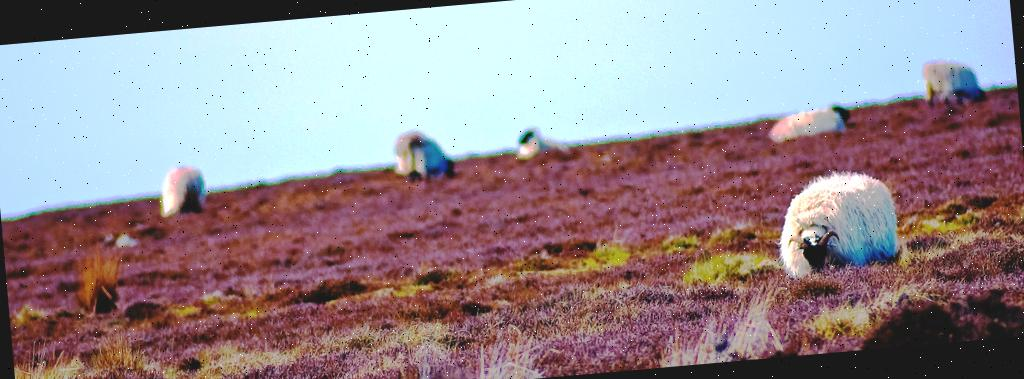Sheep: (772, 169, 913, 285), (392, 126, 455, 185), (920, 58, 992, 108), (766, 103, 852, 139), (152, 161, 204, 215), (514, 124, 568, 156)
